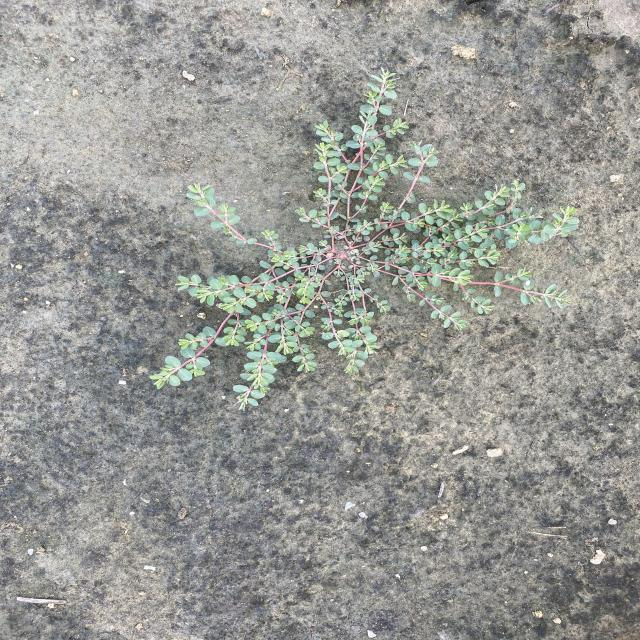SpottedSpurge: (147, 66, 581, 414)
